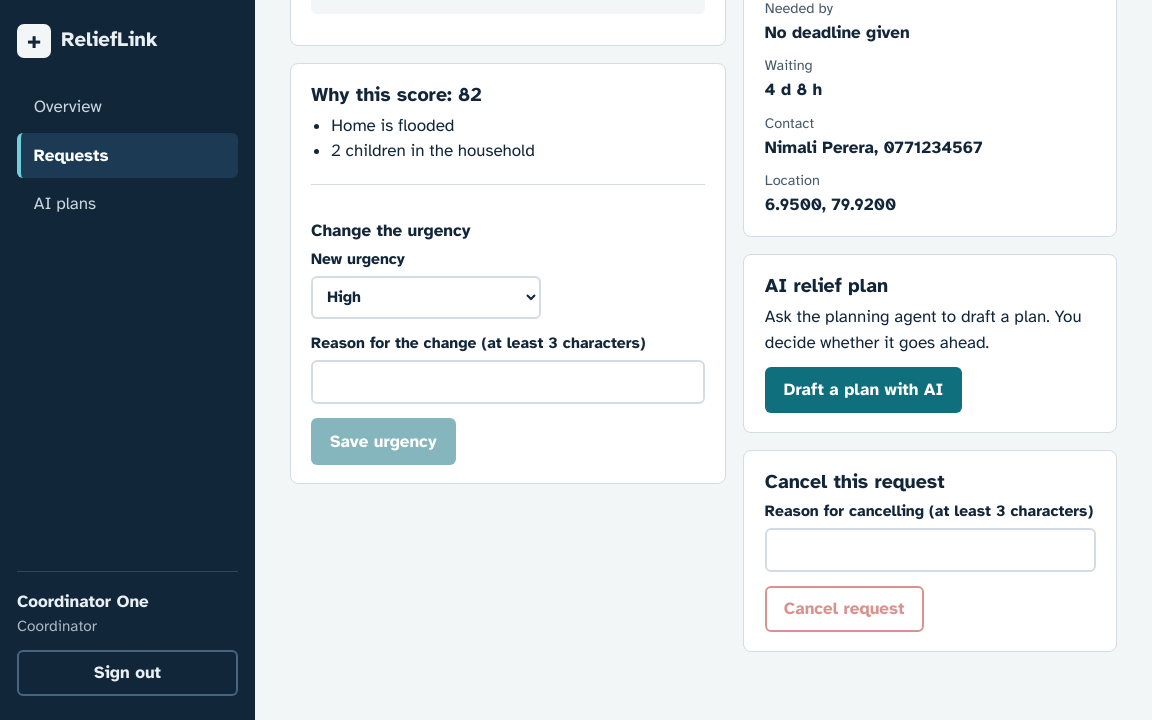
Request detail › cancels with a reason
The image size is (1152, 720).
(page scrolled)
Check: the button "Cancel request" is disabled, box [765,586,924,632]
In the field labelled "Reason for cancelling (at least 3 characters)": (930, 550) [765,528,1096,572], type "Duplicate request"
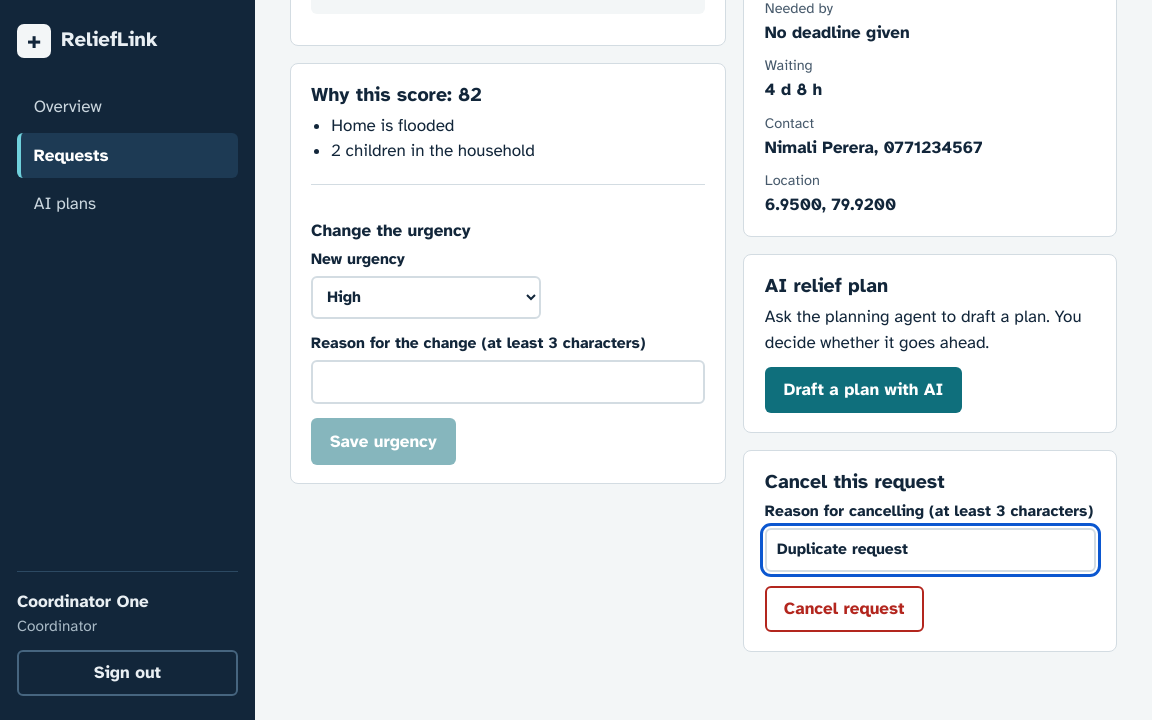
Click the button "Cancel request": (844, 609) [765,586,924,632]
(page scrolled)
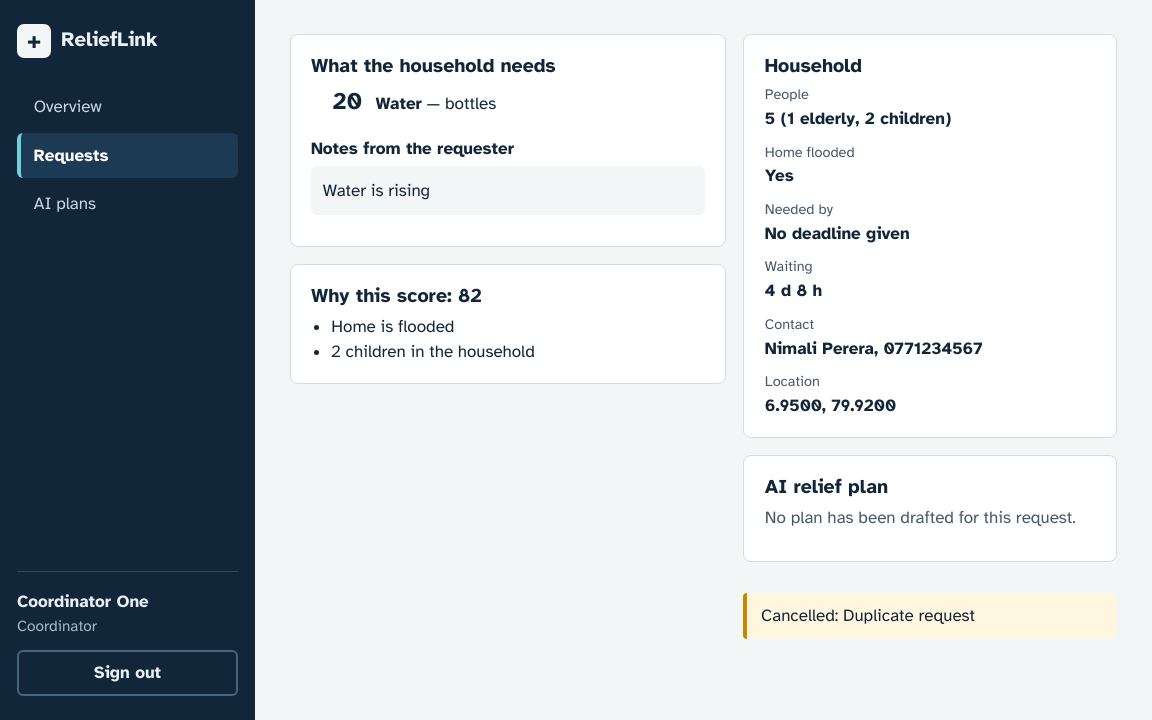
Check: the text "Cancelled: Duplicate request" is shown, box [744,593,1118,639]
